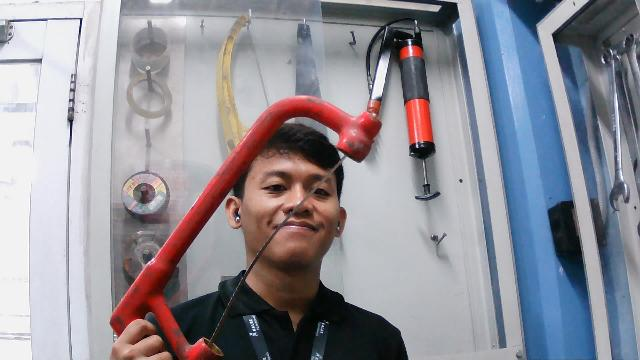gergaji_besi: (103, 95, 385, 360)
